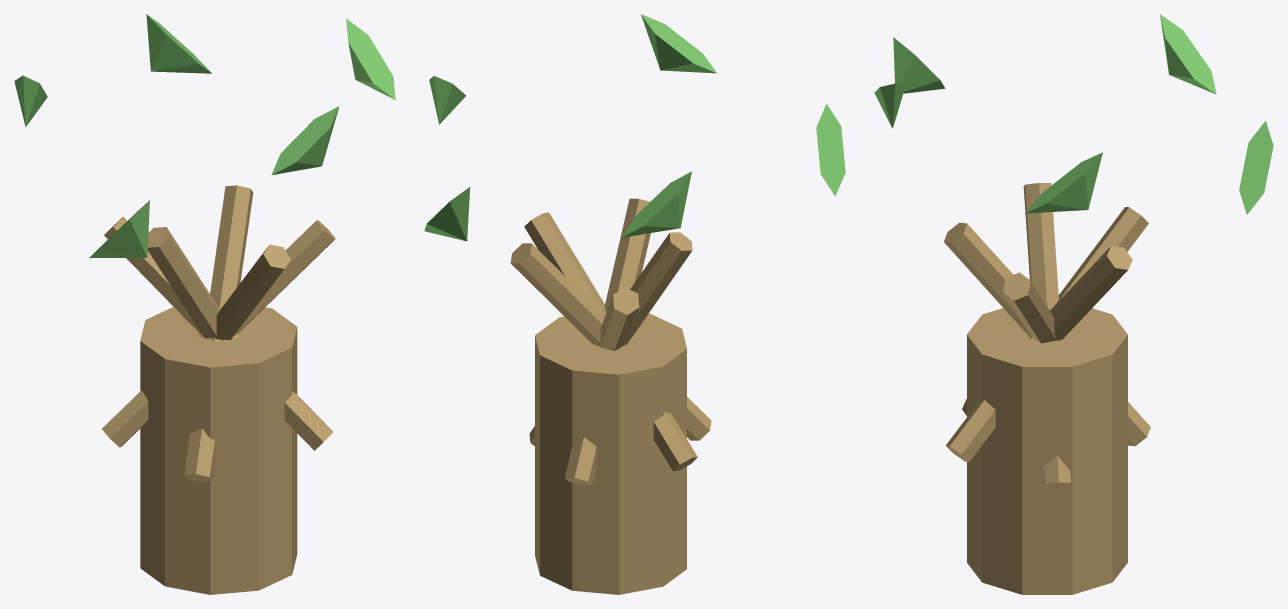
Rendered from palm_sapling.glb.
The picture shows the model from 3 angles, left to right: view 1: azimuth 30°, elevation 25°; view 2: azimuth 150°, elevation 25°; view 3: azimuth 270°, elevation 25°; orthographic projection. The views are drawn at different scales.
Visible parts, largest first — view 1: PalmSapling_trunk, PalmSapling_leaf_stem_3, PalmSapling_leaf_stem_2, PalmSapling_leaf_stem_5, PalmSapling_leaf_stem_4, PalmSapling_leaf_stem_1, PalmSapling_leaf_5, PalmSapling_leaf_1, PalmSapling_leaf_2, PalmSapling_leaf_4, PalmSapling_leaf_3; view 2: PalmSapling_trunk, PalmSapling_leaf_stem_3, PalmSapling_leaf_stem_2, PalmSapling_leaf_stem_1, PalmSapling_leaf_stem_5, PalmSapling_leaf_3, PalmSapling_leaf_5, PalmSapling_leaf_4, PalmSapling_leaf_stem_4, PalmSapling_leaf_2, PalmSapling_leaf_1; view 3: PalmSapling_trunk, PalmSapling_leaf_stem_4, PalmSapling_leaf_stem_5, PalmSapling_leaf_stem_1, PalmSapling_leaf_stem_3, PalmSapling_leaf_1, PalmSapling_leaf_3, PalmSapling_leaf_stem_2, PalmSapling_leaf_2, PalmSapling_leaf_4, PalmSapling_leaf_5.
Boxes of the visible parts, x1=… form: PalmSapling_trunk: x1=140, y1=307, x2=297, y2=594; PalmSapling_leaf_stem_3: x1=184, y1=185, x2=253, y2=481; PalmSapling_leaf_stem_2: x1=102, y1=220, x2=335, y2=447; PalmSapling_leaf_stem_5: x1=147, y1=227, x2=219, y2=338; PalmSapling_leaf_stem_4: x1=104, y1=217, x2=333, y2=450; PalmSapling_leaf_stem_1: x1=215, y1=244, x2=290, y2=339; PalmSapling_leaf_5: x1=271, y1=106, x2=339, y2=175; PalmSapling_leaf_1: x1=346, y1=18, x2=395, y2=99; PalmSapling_leaf_2: x1=146, y1=14, x2=211, y2=73; PalmSapling_leaf_4: x1=89, y1=200, x2=149, y2=258; PalmSapling_leaf_3: x1=14, y1=75, x2=47, y2=126; PalmSapling_trunk: x1=535, y1=313, x2=686, y2=594; PalmSapling_leaf_stem_3: x1=510, y1=243, x2=711, y2=440; PalmSapling_leaf_stem_2: x1=524, y1=212, x2=697, y2=471; PalmSapling_leaf_stem_1: x1=565, y1=198, x2=650, y2=485; PalmSapling_leaf_stem_5: x1=529, y1=232, x2=692, y2=445; PalmSapling_leaf_3: x1=621, y1=171, x2=691, y2=237; PalmSapling_leaf_5: x1=641, y1=14, x2=716, y2=73; PalmSapling_leaf_4: x1=816, y1=104, x2=845, y2=196; PalmSapling_leaf_stem_4: x1=600, y1=287, x2=639, y2=350; PalmSapling_leaf_2: x1=424, y1=187, x2=470, y2=241; PalmSapling_leaf_1: x1=429, y1=76, x2=466, y2=124; PalmSapling_trunk: x1=967, y1=308, x2=1127, y2=594; PalmSapling_leaf_stem_4: x1=945, y1=207, x2=1148, y2=462; PalmSapling_leaf_stem_5: x1=1023, y1=183, x2=1070, y2=485; PalmSapling_leaf_stem_1: x1=944, y1=222, x2=1150, y2=446; PalmSapling_leaf_stem_3: x1=962, y1=245, x2=1132, y2=415; PalmSapling_leaf_1: x1=1025, y1=152, x2=1102, y2=213; PalmSapling_leaf_3: x1=1160, y1=14, x2=1216, y2=94; PalmSapling_leaf_stem_2: x1=1003, y1=272, x2=1056, y2=343; PalmSapling_leaf_2: x1=1239, y1=121, x2=1273, y2=214; PalmSapling_leaf_4: x1=893, y1=37, x2=945, y2=93; PalmSapling_leaf_5: x1=874, y1=83, x2=905, y2=128.
Size of the model in its own units: 0.4083 by 0.5492 by 0.3966.
